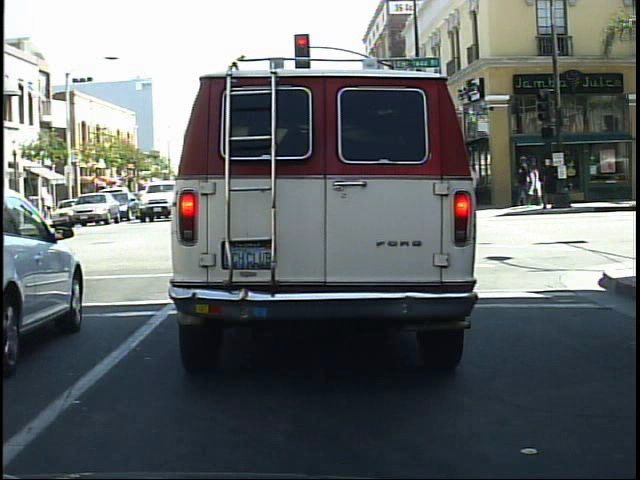person: (536, 154, 563, 215), (516, 157, 541, 214), (515, 149, 536, 211), (527, 159, 548, 210)
